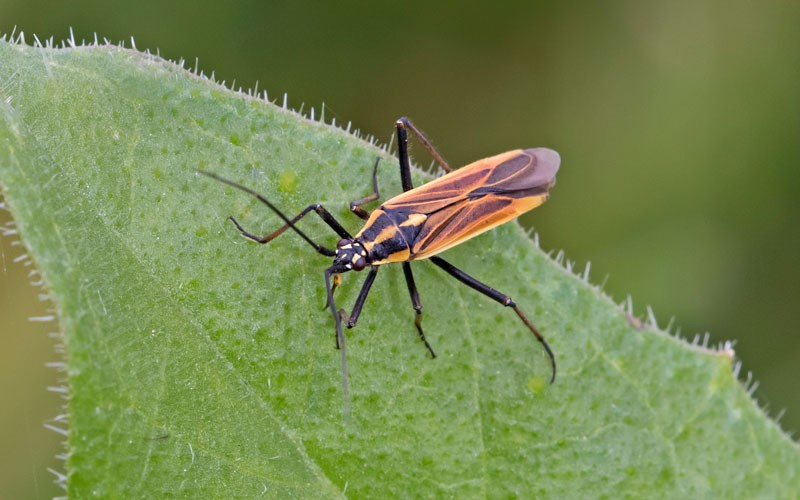insect: (229, 114, 563, 401)
